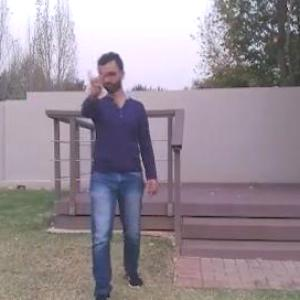takeoff-hand: (82, 60, 110, 100)
